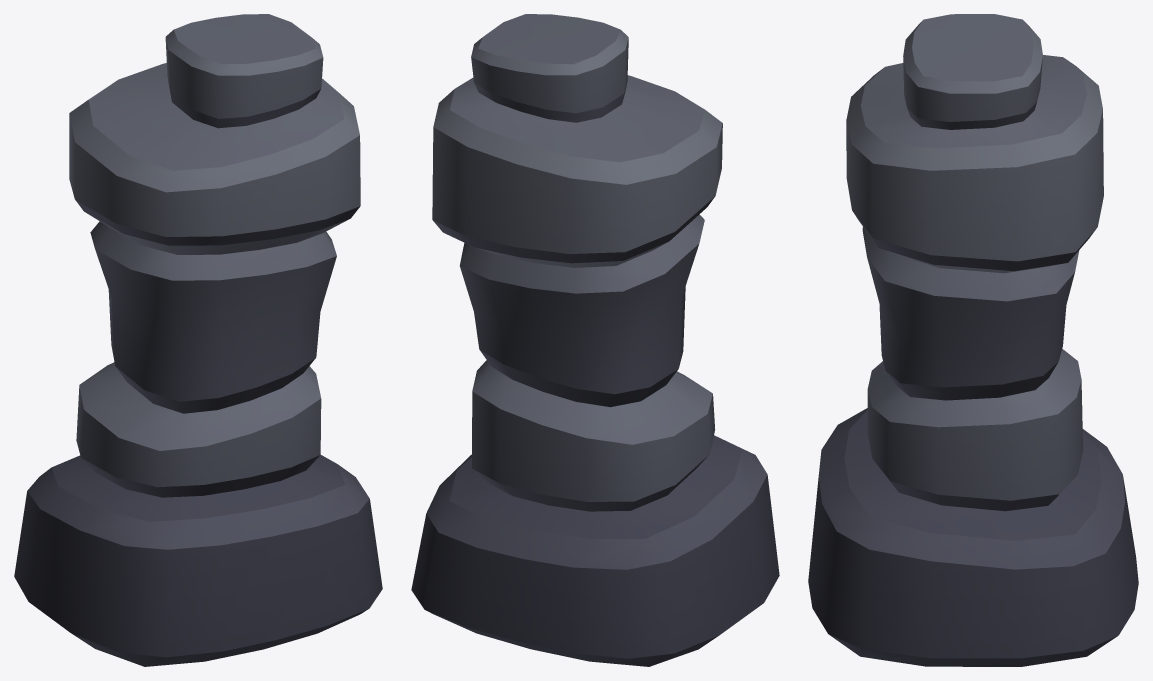
Rendered from rock_big_B_gray_3.glb.
3 views of the same model, side by side, from view 1: azimuth 30°, elevation 25°; view 2: azimuth 150°, elevation 25°; view 3: azimuth 270°, elevation 25° (orthographic). The views are drawn at different scales.
Parts seen in each view (by area): view 1: rock_big_B_gray_3; view 2: rock_big_B_gray_3; view 3: rock_big_B_gray_3.
Part boxes in pixels (box(x1,y1,x2,y2)): rock_big_B_gray_3: box(14, 14, 382, 666); rock_big_B_gray_3: box(411, 14, 779, 666); rock_big_B_gray_3: box(808, 14, 1138, 666).
Size of the model in its own units: 4.3 by 7.74 by 3.97.
Materials: 1 (1 with a texture image).
